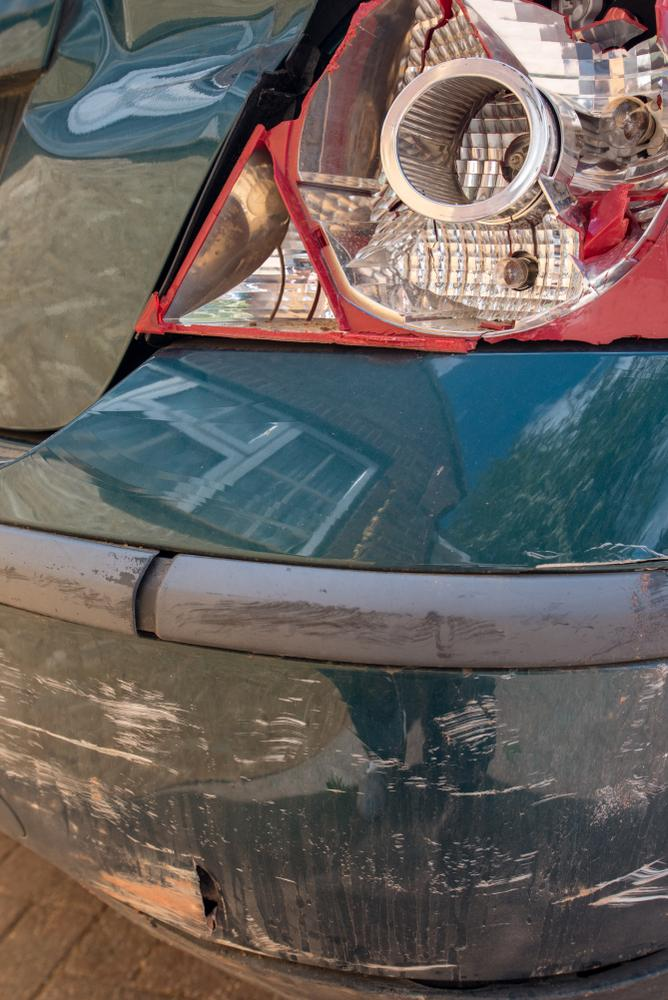crack: (196, 863, 218, 932)
dent: (28, 0, 320, 156)
lamp broken: (133, 0, 668, 351)
scratch: (0, 652, 668, 946), (166, 571, 668, 670), (0, 555, 148, 616)
